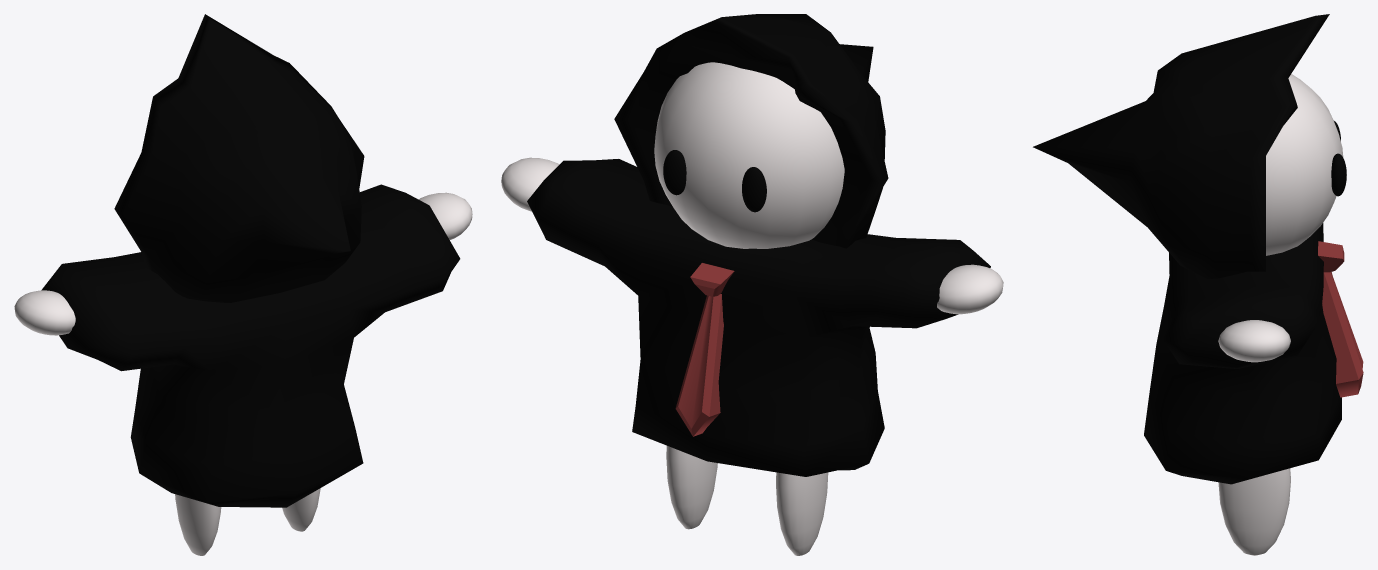
Rendered from CHaracterFBX.fbx.
3 views of the same model, side by side, from view 1: azimuth 30°, elevation 25°; view 2: azimuth 150°, elevation 25°; view 3: azimuth 270°, elevation 25° (orthographic). The views are drawn at different scales.
Parts seen in each view (by area): view 1: pCube1, pCube3, pSphere5, pSphere1, pSphere6, pSphere2; view 2: pCube1, pSphere3, pCube3, pCube13, pSphere1, pSphere2, pSphere5, pSphere6, pCube12, pSphere13, pSphere12; view 3: pCube3, pCube1, pSphere3, pSphere2, pCube13, pSphere6, pCube12, pSphere12.
Part boxes in pixels (x1=…): pCube1: x1=41, y1=184, x2=460, y2=507; pCube3: x1=114, y1=14, x2=364, y2=302; pSphere5: x1=14, y1=290, x2=75, y2=335; pSphere1: x1=175, y1=494, x2=221, y2=555; pSphere6: x1=418, y1=192, x2=472, y2=239; pSphere2: x1=282, y1=488, x2=320, y2=531; pCube1: x1=527, y1=159, x2=990, y2=476; pSphere3: x1=654, y1=62, x2=844, y2=248; pCube3: x1=614, y1=14, x2=888, y2=248; pCube13: x1=675, y1=294, x2=723, y2=436; pSphere1: x1=776, y1=472, x2=828, y2=555; pSphere2: x1=666, y1=446, x2=717, y2=529; pSphere5: x1=937, y1=264, x2=1003, y2=314; pSphere6: x1=501, y1=157, x2=559, y2=211; pCube12: x1=690, y1=263, x2=734, y2=296; pSphere13: x1=742, y1=167, x2=766, y2=212; pSphere12: x1=663, y1=150, x2=686, y2=195; pCube3: x1=1033, y1=14, x2=1329, y2=278; pCube1: x1=1144, y1=223, x2=1341, y2=484; pSphere3: x1=1266, y1=74, x2=1343, y2=255; pSphere2: x1=1218, y1=468, x2=1290, y2=555; pCube13: x1=1322, y1=272, x2=1363, y2=397; pSphere6: x1=1218, y1=320, x2=1290, y2=362; pCube12: x1=1318, y1=241, x2=1344, y2=272; pSphere12: x1=1331, y1=153, x2=1346, y2=196.
Bounding box in the file's own units: 14.52 × 15.58 × 9.09.
